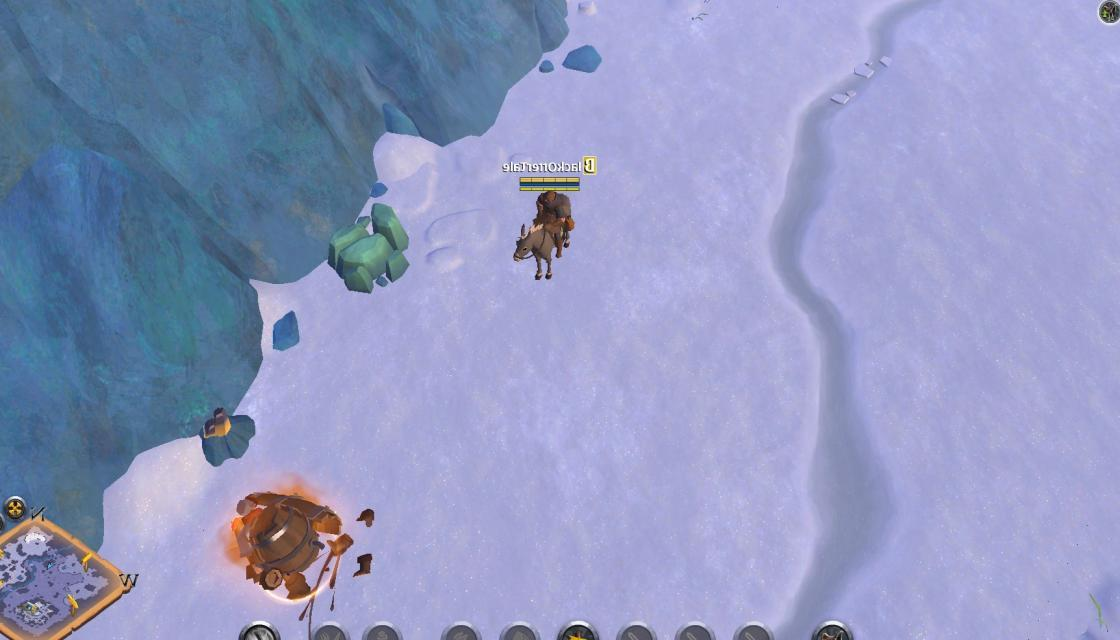copperore: (190, 394, 257, 474)
sandstone: (324, 201, 416, 296)
